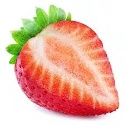strawberry: (6, 5, 121, 120)
